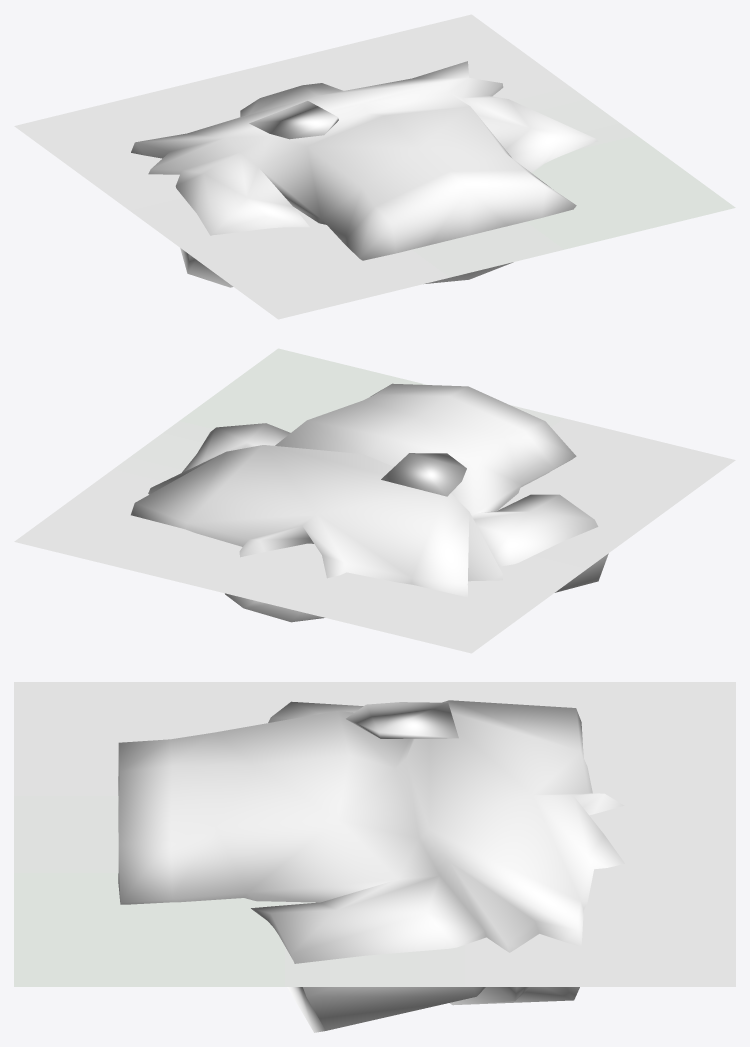
The model's file is ITAR_MIL_B.glb.
The picture shows the model from 3 angles, top to bottom: view 1: azimuth 30°, elevation 25°; view 2: azimuth 150°, elevation 25°; view 3: azimuth 270°, elevation 25°; orthographic projection. The views are drawn at different scales.
Parts seen in each view (by area): view 1: Mesh; view 2: Mesh; view 3: Mesh.
Part boxes in pixels (left/top/right/bottom): Mesh: left=14, top=14, right=735, bottom=319; Mesh: left=14, top=348, right=735, bottom=653; Mesh: left=14, top=682, right=735, bottom=1032.
Bounding box in the file's own units: 0.7534 × 0.1951 × 0.7534.
2 materials, 1 textured.
